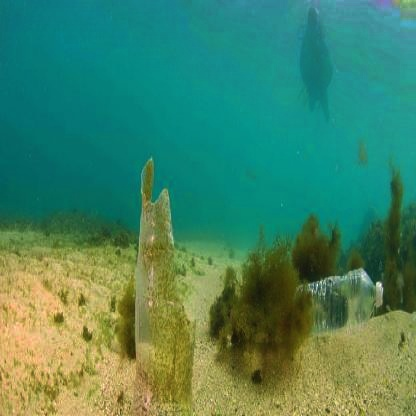pbottle: (127, 155, 206, 406), (285, 266, 389, 338)
